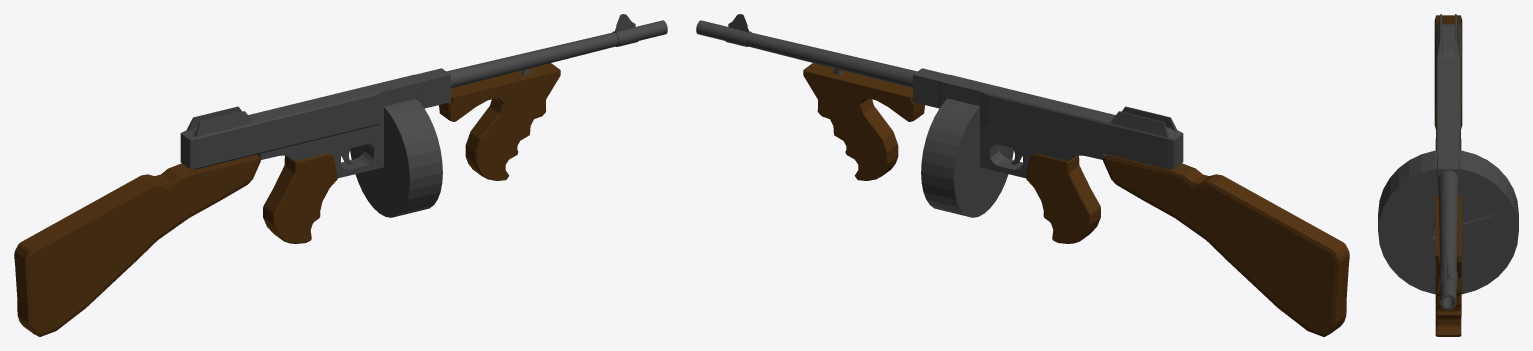
The model's file is TOMMY CUM GUN.fbx.
The picture shows the model from 3 angles, left to right: view 1: azimuth 30°, elevation 25°; view 2: azimuth 150°, elevation 25°; view 3: azimuth 270°, elevation 25°; orthographic projection. The views are drawn at different scales.
Visible parts, largest first — view 1: Cube, Cube.001, Cube.003, Cylinder, Cube.002; view 2: Cube, Cube.001, Cube.003, Cylinder, Cube.002; view 3: Cylinder, Cube, Cube.003, Cube.001.
Boxes of the visible parts, x1=… form: Cube: x1=180, y1=14, x2=667, y2=178; Cube.001: x1=14, y1=154, x2=260, y2=336; Cube.003: x1=439, y1=63, x2=560, y2=180; Cylinder: x1=350, y1=98, x2=442, y2=217; Cube.002: x1=263, y1=153, x2=337, y2=243; Cube: x1=696, y1=14, x2=1183, y2=178; Cube.001: x1=1103, y1=154, x2=1349, y2=336; Cube.003: x1=803, y1=63, x2=924, y2=180; Cylinder: x1=921, y1=98, x2=1013, y2=217; Cube.002: x1=1026, y1=153, x2=1100, y2=243; Cylinder: x1=1378, y1=150, x2=1518, y2=294; Cube: x1=1436, y1=14, x2=1460, y2=309; Cube.003: x1=1435, y1=195, x2=1461, y2=336; Cube.001: x1=1434, y1=15, x2=1462, y2=128.
Bounding box in the file's own units: 489 × 127 × 79.93.
